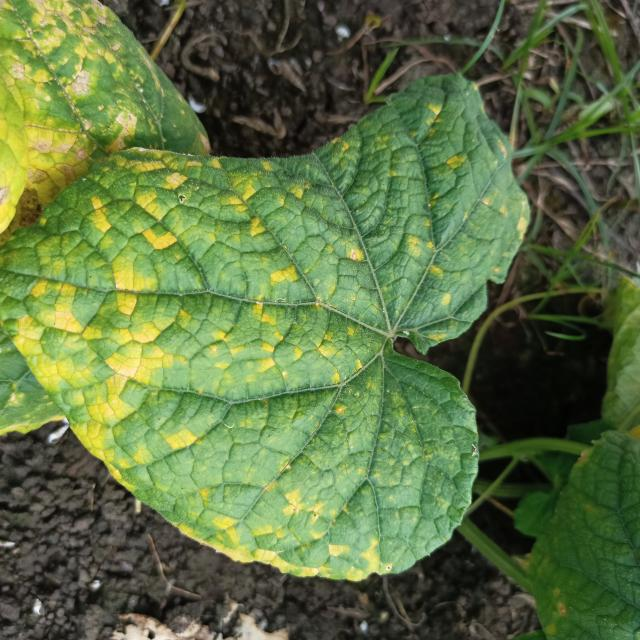disease_cucumber: (15, 96, 532, 564)
